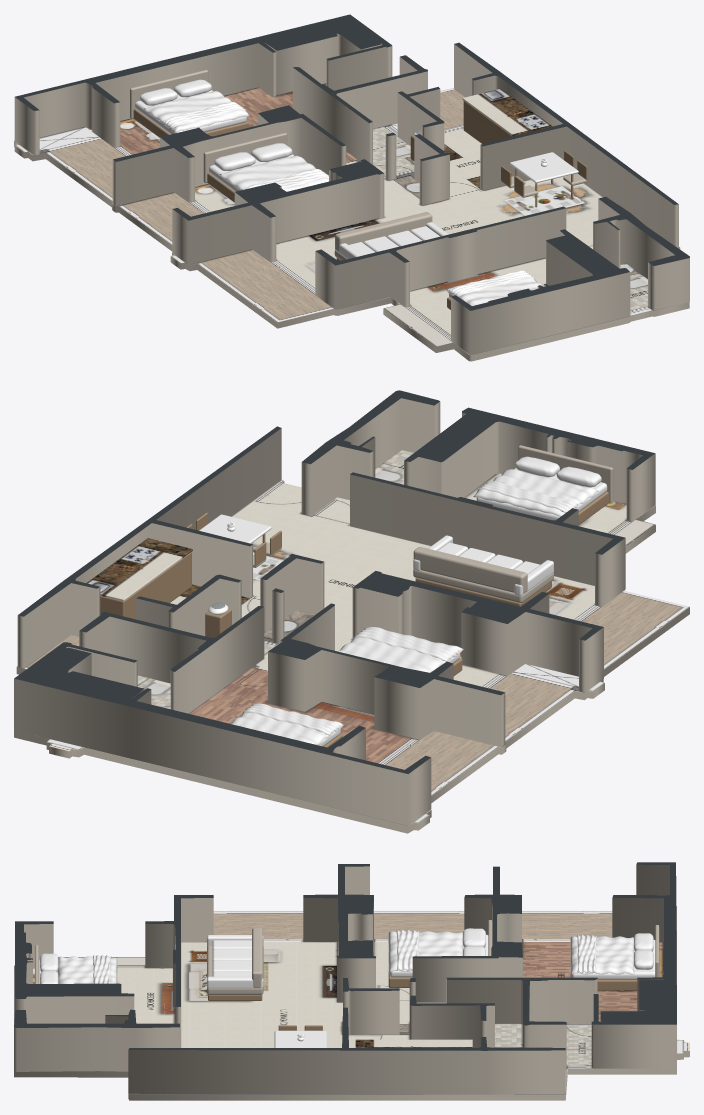
3 renders of one model, top to bottom at view 1: azimuth 30°, elevation 25°; view 2: azimuth 150°, elevation 25°; view 3: azimuth 270°, elevation 25°, orthographic. The views are drawn at different scales.
Visible parts, largest first — view 1: Partition walls, Apartment floor, Stone worktop, Draped bed linen, Draped bed linen.002, Sofa back, Marble dining top, Kitchen cabinets, Draped bed linen.004, Upholstered headboard.001, Upholstered headboard, Draped bed linen.001 (+6 smaller); view 2: Partition walls, Apartment floor, Stone worktop, Sofa back, Draped bed linen.004, Kitchen cabinets, Draped bed linen.002, Draped bed linen, Draped bed linen.003, Upholstered sofa frame, Upholstered headboard.002, Marble dining top (+5 smaller); view 3: Partition walls, Apartment floor, Draped bed linen, Draped bed linen.002, Draped bed linen.004, Stone worktop, Marble dining top, Draped bed linen.003, Draped bed linen.001, Upholstered sofa frame, Piped mattress, Padded armrest.001 (+7 smaller).
Part boxes in pixels (left/top/right/bottom): Partition walls: left=14, top=14, right=689, bottom=354; Apartment floor: left=14, top=83, right=689, bottom=361; Stone worktop: left=462, top=88, right=552, bottom=136; Draped bed linen: left=143, top=91, right=249, bottom=132; Draped bed linen.002: left=219, top=155, right=328, bottom=191; Sofa back: left=335, top=212, right=432, bottom=251; Marble dining top: left=509, top=152, right=578, bottom=183; Kitchen cabinets: left=463, top=100, right=512, bottom=143; Draped bed linen.004: left=446, top=273, right=543, bottom=305; Upholstered headboard.001: left=203, top=132, right=287, bottom=182; Upholstered headboard: left=130, top=70, right=208, bottom=118; Draped bed linen.001: left=162, top=102, right=246, bottom=129; Partition walls: left=14, top=390, right=655, bottom=825; Apartment floor: left=14, top=450, right=689, bottom=833; Stone worktop: left=86, top=538, right=192, bottom=601; Sofa back: left=413, top=547, right=527, bottom=593; Draped bed linen.004: left=473, top=469, right=598, bottom=516; Kitchen cabinets: left=100, top=552, right=191, bottom=619; Draped bed linen.002: left=338, top=627, right=463, bottom=672; Draped bed linen: left=231, top=704, right=343, bottom=744; Draped bed linen.003: left=353, top=627, right=459, bottom=661; Upholstered sofa frame: left=413, top=569, right=553, bottom=603; Upholstered headboard.002: left=518, top=445, right=613, bottom=503; Marble dining top: left=199, top=514, right=271, bottom=543; Partition walls: left=14, top=862, right=676, bottom=1094; Apartment floor: left=14, top=906, right=689, bottom=1100; Draped bed linen: left=570, top=936, right=634, bottom=974; Draped bed linen.002: left=388, top=931, right=463, bottom=972; Draped bed linen.004: left=58, top=956, right=117, bottom=983; Stone worktop: left=355, top=1039, right=472, bottom=1047; Marble dining top: left=274, top=1030, right=326, bottom=1047; Draped bed linen.003: left=396, top=929, right=419, bottom=970; Draped bed linen.001: left=577, top=934, right=596, bottom=973; Upholstered sofa frame: left=207, top=945, right=263, bottom=994; Piped mattress: left=571, top=940, right=655, bottom=979; Padded armrest.001: left=207, top=976, right=263, bottom=988.
Bounding box in the file's own units: 10.65 × 1.3 × 15.94.
10 materials, 1 textured.
